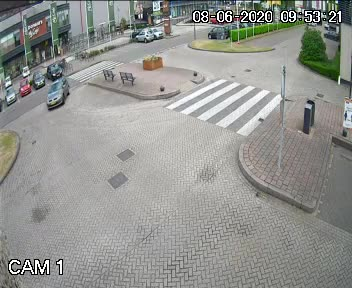car: (46, 78, 75, 115), (317, 19, 342, 44), (204, 24, 227, 41), (44, 62, 64, 80), (16, 79, 32, 95), (32, 67, 42, 92), (144, 27, 163, 40), (133, 27, 150, 41), (5, 85, 15, 108), (22, 61, 32, 77), (3, 72, 13, 86)
